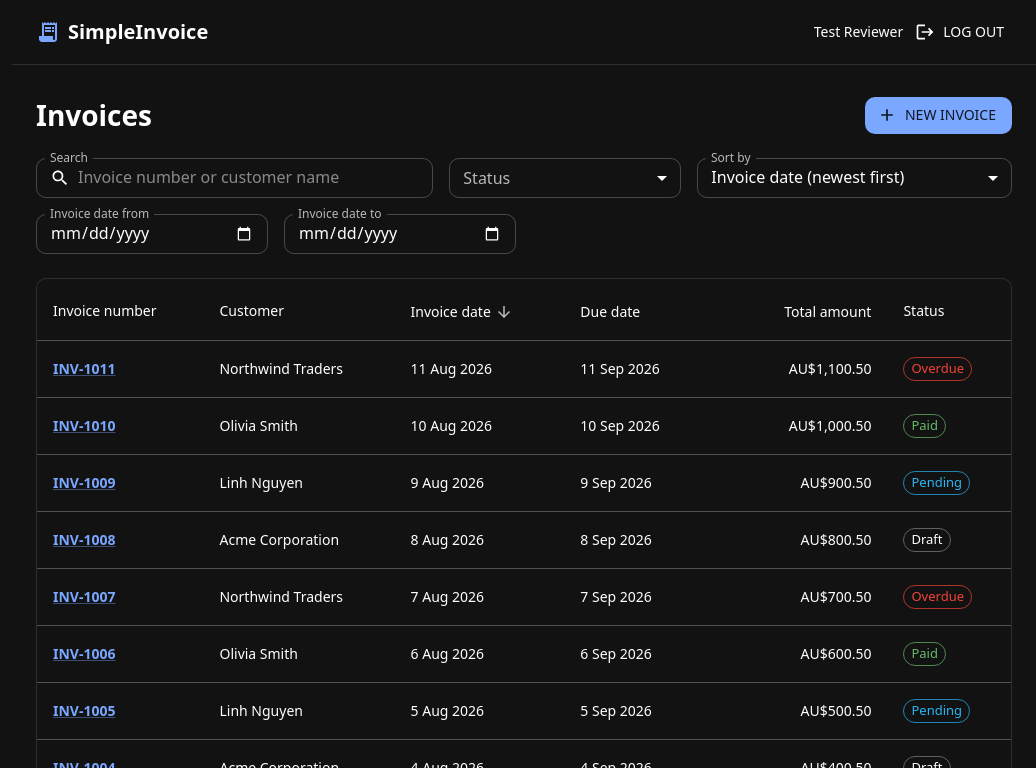
InvoiceListPage › searches by keyword after the user stops typing
The image size is (1036, 768).
Type "acme" into the field named "Search invoices".
click(256, 178); type("acme")  # box [78,158,433,198]
(page scrolled)
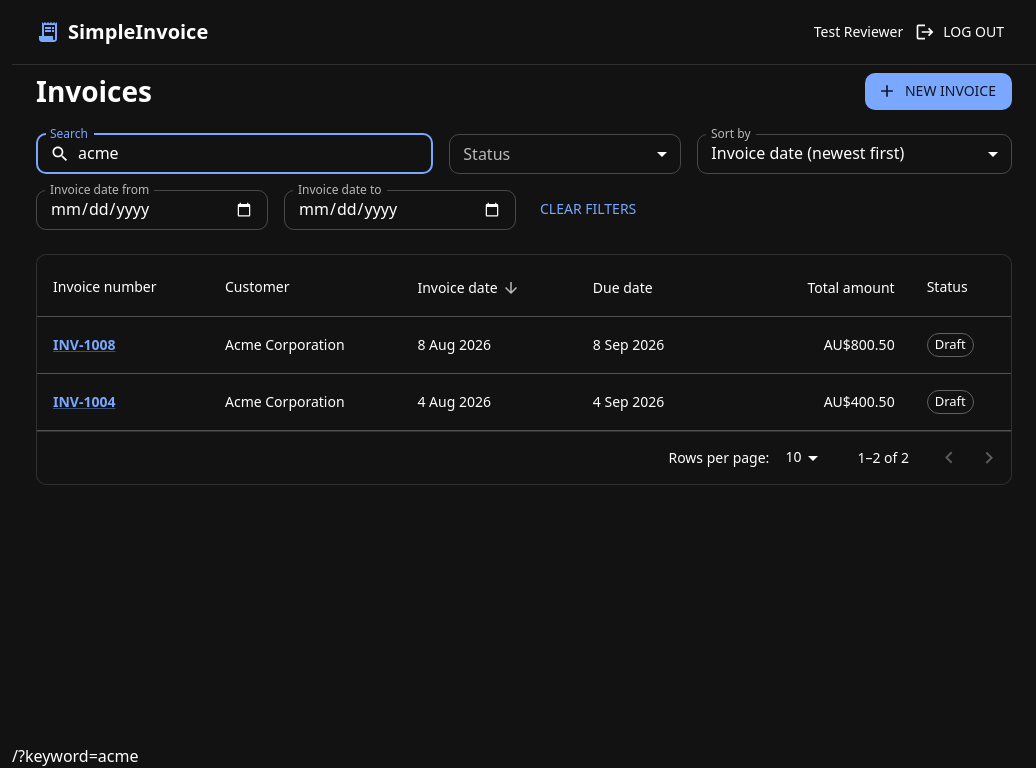
expect the text with test id "location" reads "/?keyword=acme": met, box [12,745,138,767]
